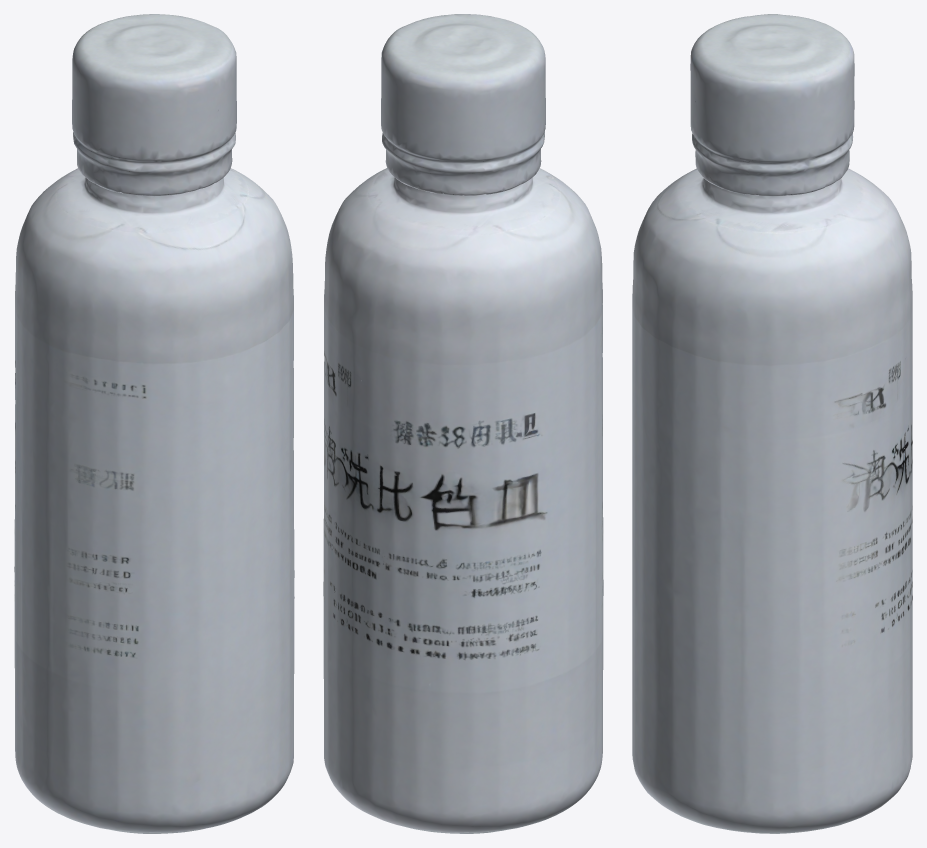
The model's file is 塑料洗瓶.glb.
The picture shows the model from 3 angles, left to right: view 1: azimuth 30°, elevation 25°; view 2: azimuth 150°, elevation 25°; view 3: azimuth 270°, elevation 25°; orthographic projection.
Bounding box in the file's own units: 0.6758 × 2 × 0.6786.
1 material, 1 textured.
